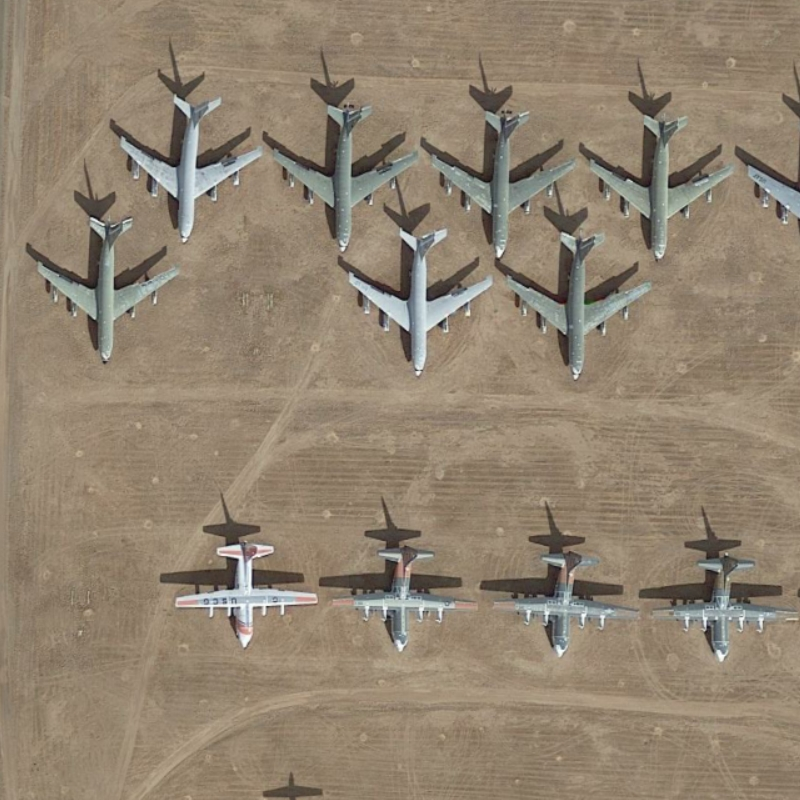A14: (581, 101, 739, 267), (27, 211, 189, 371), (340, 218, 498, 382), (268, 93, 419, 255), (504, 226, 657, 383), (113, 84, 261, 244), (426, 100, 575, 258)
A2: (170, 528, 326, 652), (329, 528, 477, 656), (481, 539, 643, 653), (649, 546, 800, 662)
